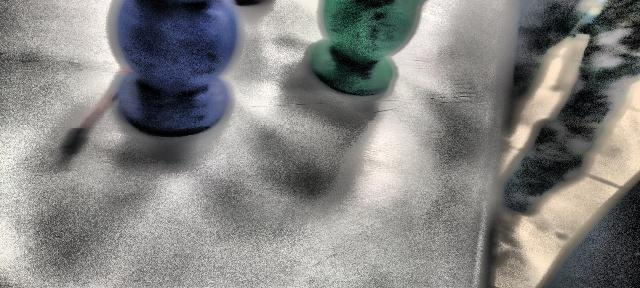blue: (111, 0, 239, 136)
green: (311, 0, 420, 98)
